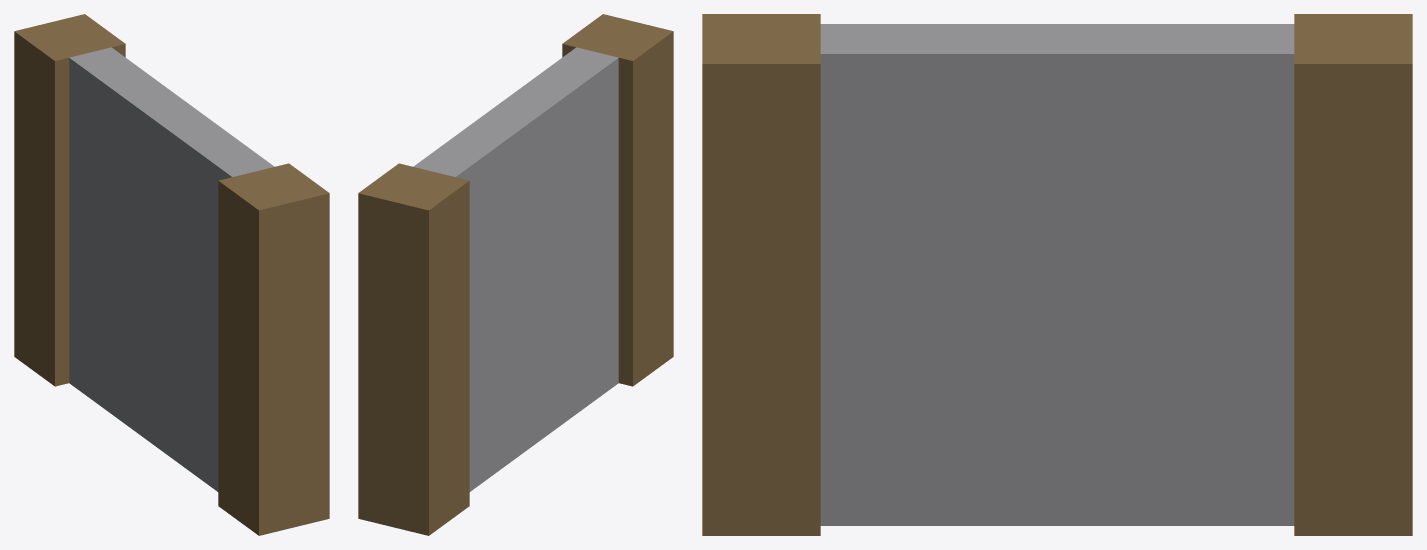
File: Wood_Wall_01.obj
3 renders of one model, left to right at view 1: azimuth 30°, elevation 25°; view 2: azimuth 150°, elevation 25°; view 3: azimuth 270°, elevation 25°, orthographic. The views are drawn at different scales.
Visible parts, largest first — view 1: Mesh1_Wood_Wall_Model; view 2: Mesh1_Wood_Wall_Model; view 3: Mesh1_Wood_Wall_Model.
Boxes of the visible parts, x1,y1,x2,y2 form: Mesh1_Wood_Wall_Model: (14, 14, 329, 535); Mesh1_Wood_Wall_Model: (358, 14, 673, 535); Mesh1_Wood_Wall_Model: (702, 14, 1412, 535).
Size of the model in its own units: 0.5 by 2.2 by 3.
